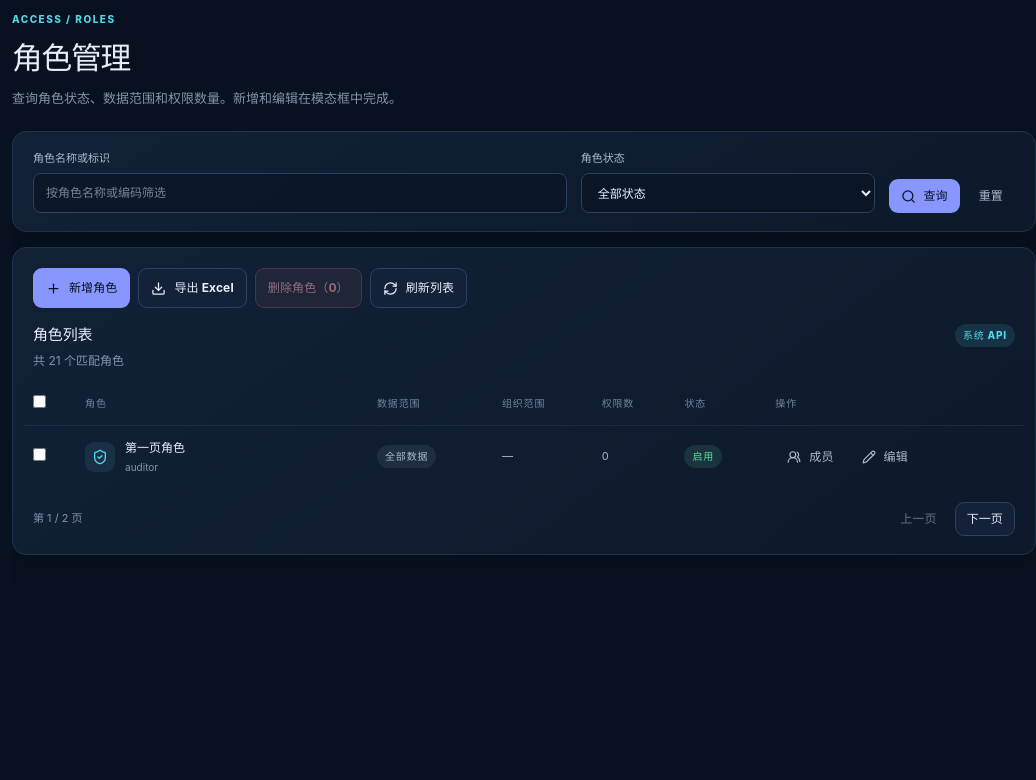
RolesPage › 使用服务端分页并把当前页写入 URL
The image size is (1036, 780).
Expected: the text "第一页角色" is shown, [125,439,185,457]
Expected: the text "第 1 / 2 页" is shown, [33,510,82,527]
What coordinates should you click on to do the following:
click the button "下一页"
I would click on:
 (985, 519)
Its box is [955,502,1015,536].
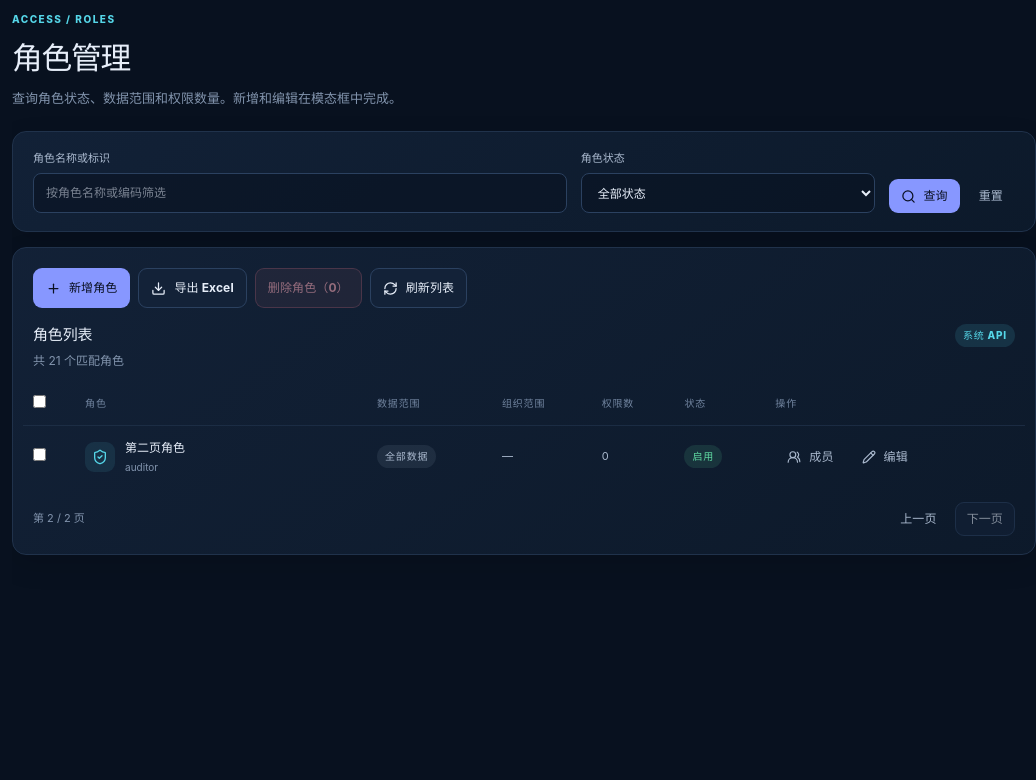
Expected: the text "第二页角色" is shown, [125,439,185,457]
